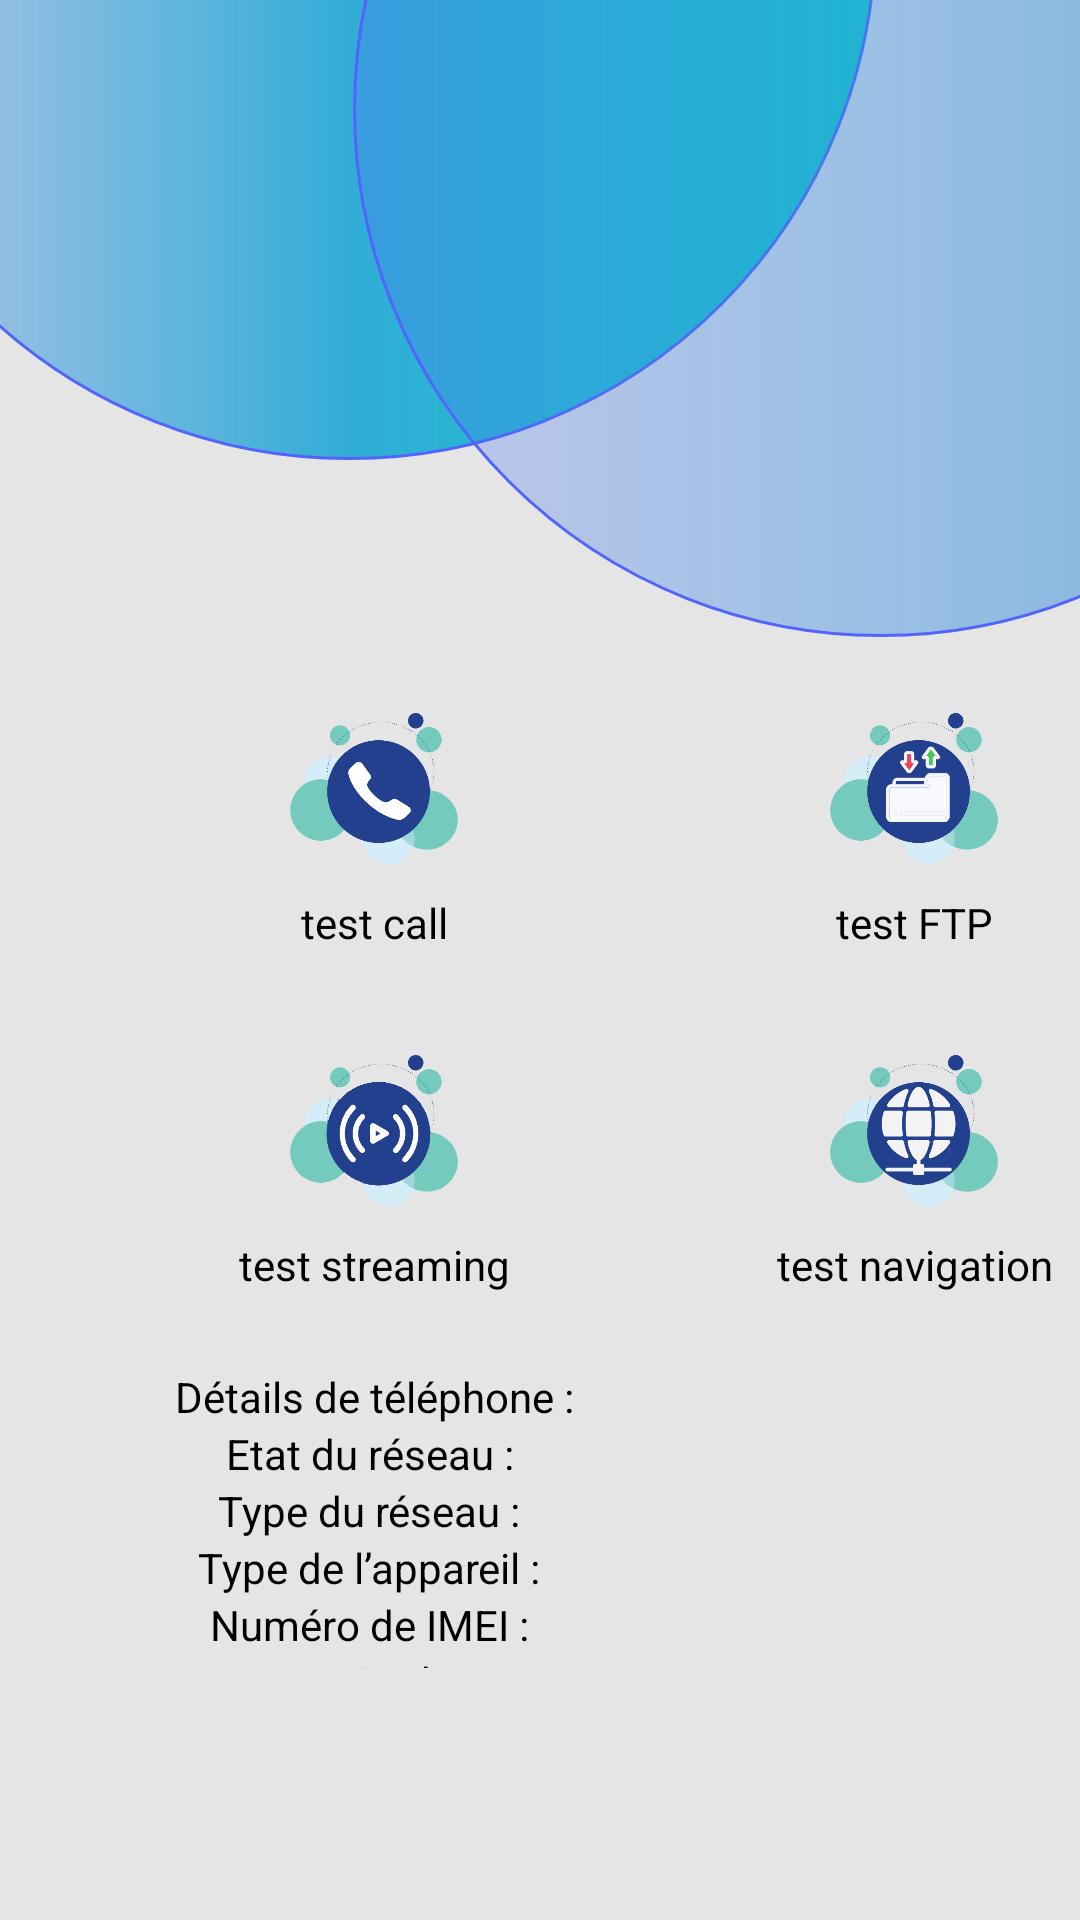

Point at icon controls on the screen. Image size 1080 × 1920, points as point (x, y).
phone: point (374, 781)
vid: point (374, 1123)
web: point (914, 1123)
